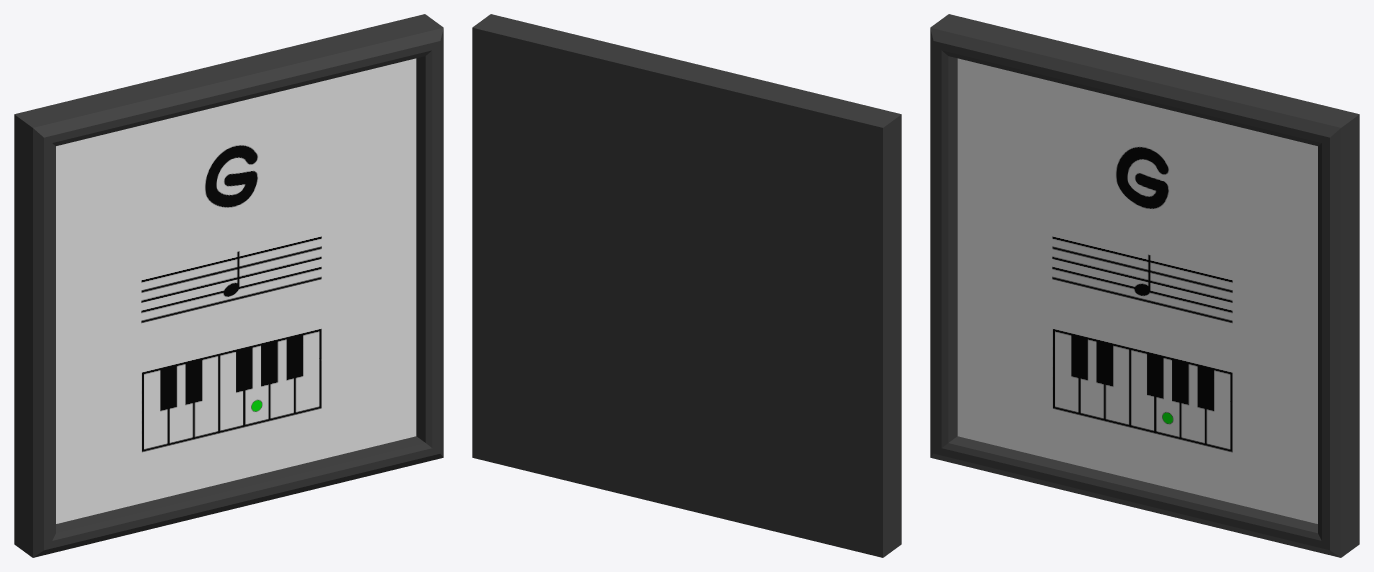
File: whiteboard-square.fbx
The picture shows the model from 3 angles, left to right: view 1: azimuth 30°, elevation 25°; view 2: azimuth 150°, elevation 25°; view 3: azimuth 330°, elevation 25°; orthographic projection.
Visible parts, largest first — view 1: Cube.011; view 2: Cube.011; view 3: Cube.011.
Boxes of the visible parts, left/top/right/bottom form: Cube.011: left=14, top=14, right=443, bottom=557; Cube.011: left=472, top=14, right=901, bottom=557; Cube.011: left=930, top=14, right=1359, bottom=557.
Bounding box in the file's own units: 200 × 200 × 19.
Materials: 3 (1 with a texture image).
